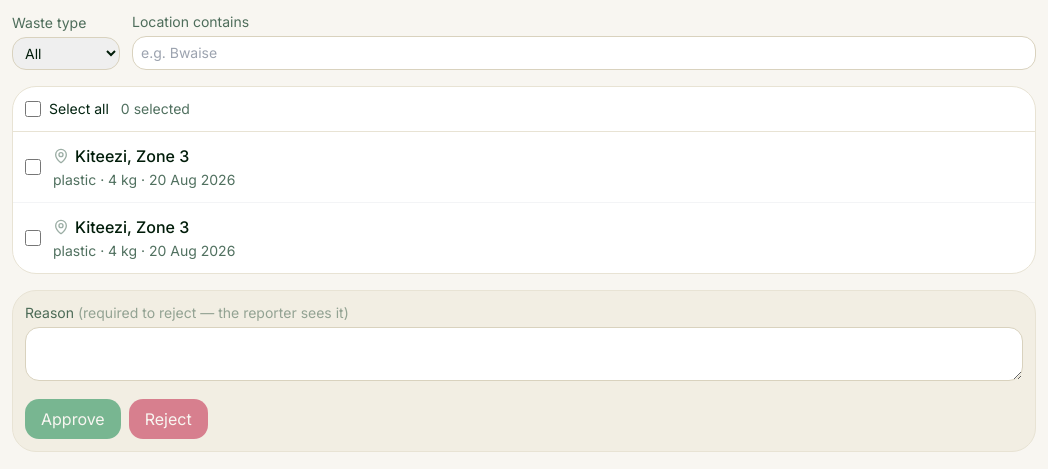
Test: SupervisorInboxView › selection › shows how many are selected
Click the checkbox named "Select report 1": (33, 167) [25, 159, 41, 175]
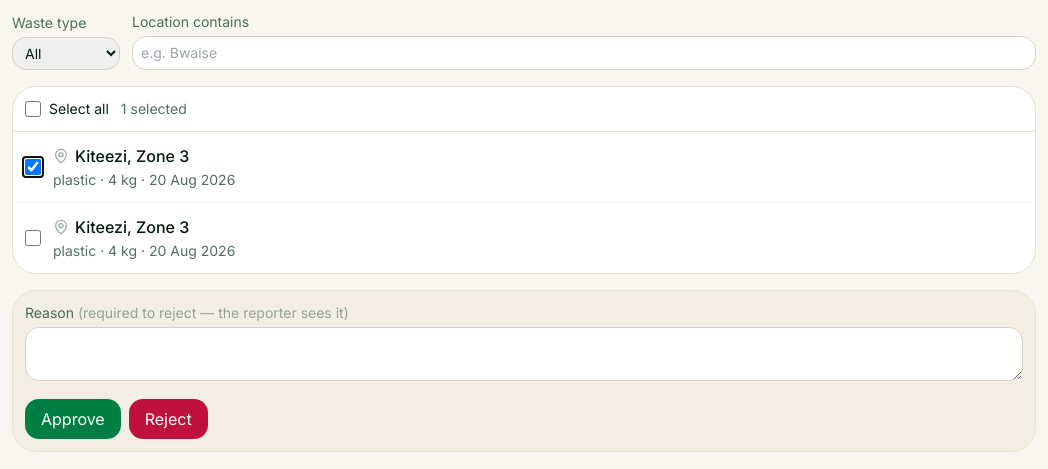
Click the checkbox named "Select report 2": (33, 238) [25, 230, 41, 246]
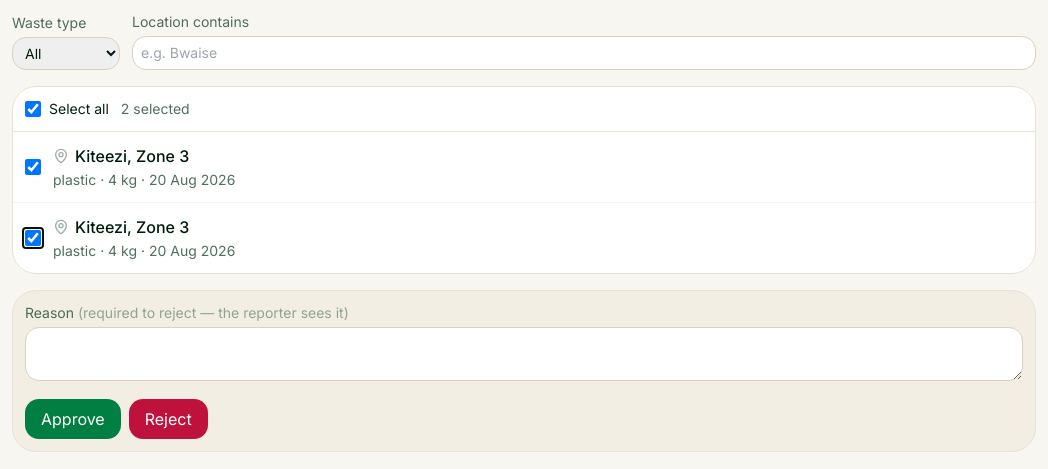
Result: the text "2 selected" is shown at [121, 99, 190, 119]
